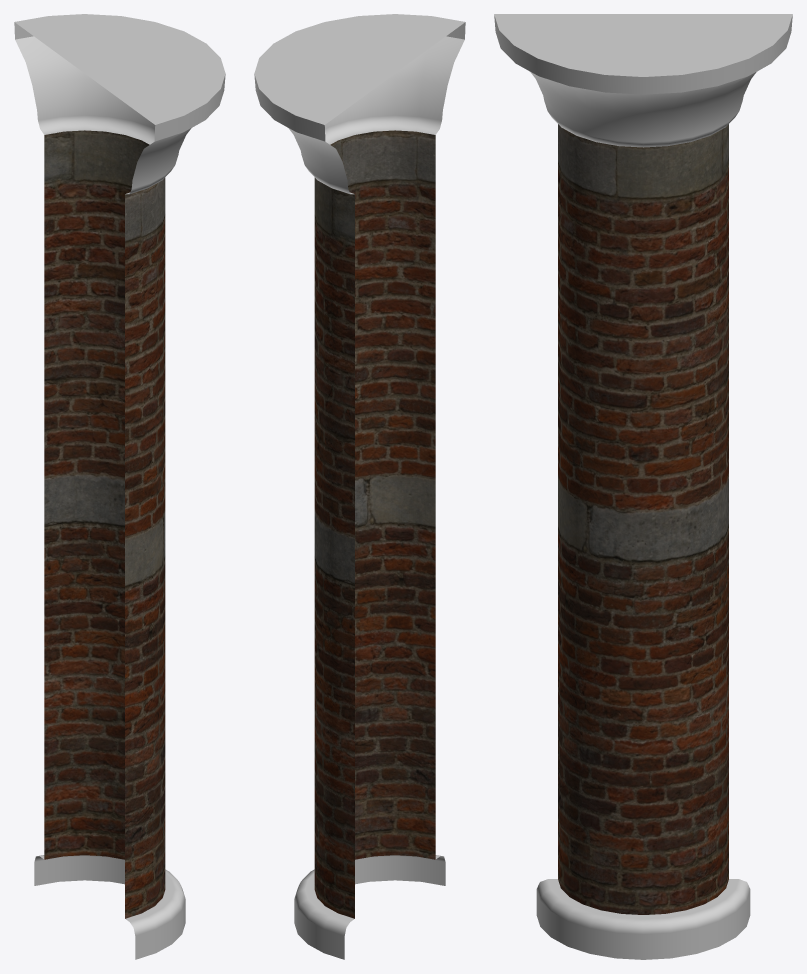
File: msp_tunnel_wall_curve_inner.fbx
The picture shows the model from 3 angles, left to right: view 1: azimuth 30°, elevation 25°; view 2: azimuth 150°, elevation 25°; view 3: azimuth 270°, elevation 25°; orthographic projection. The views are drawn at different scales.
Parts seen in each view (by area): view 1: msp_tunnel_wall_curve_inner; view 2: msp_tunnel_wall_curve_inner; view 3: msp_tunnel_wall_curve_inner.
Part boxes in pixels (x1,y1,x2,y2): msp_tunnel_wall_curve_inner: (14,14,225,959); msp_tunnel_wall_curve_inner: (254,14,465,959); msp_tunnel_wall_curve_inner: (494,14,792,959).
Size of the model in its own units: 0.7514 by 5 by 1.5.
